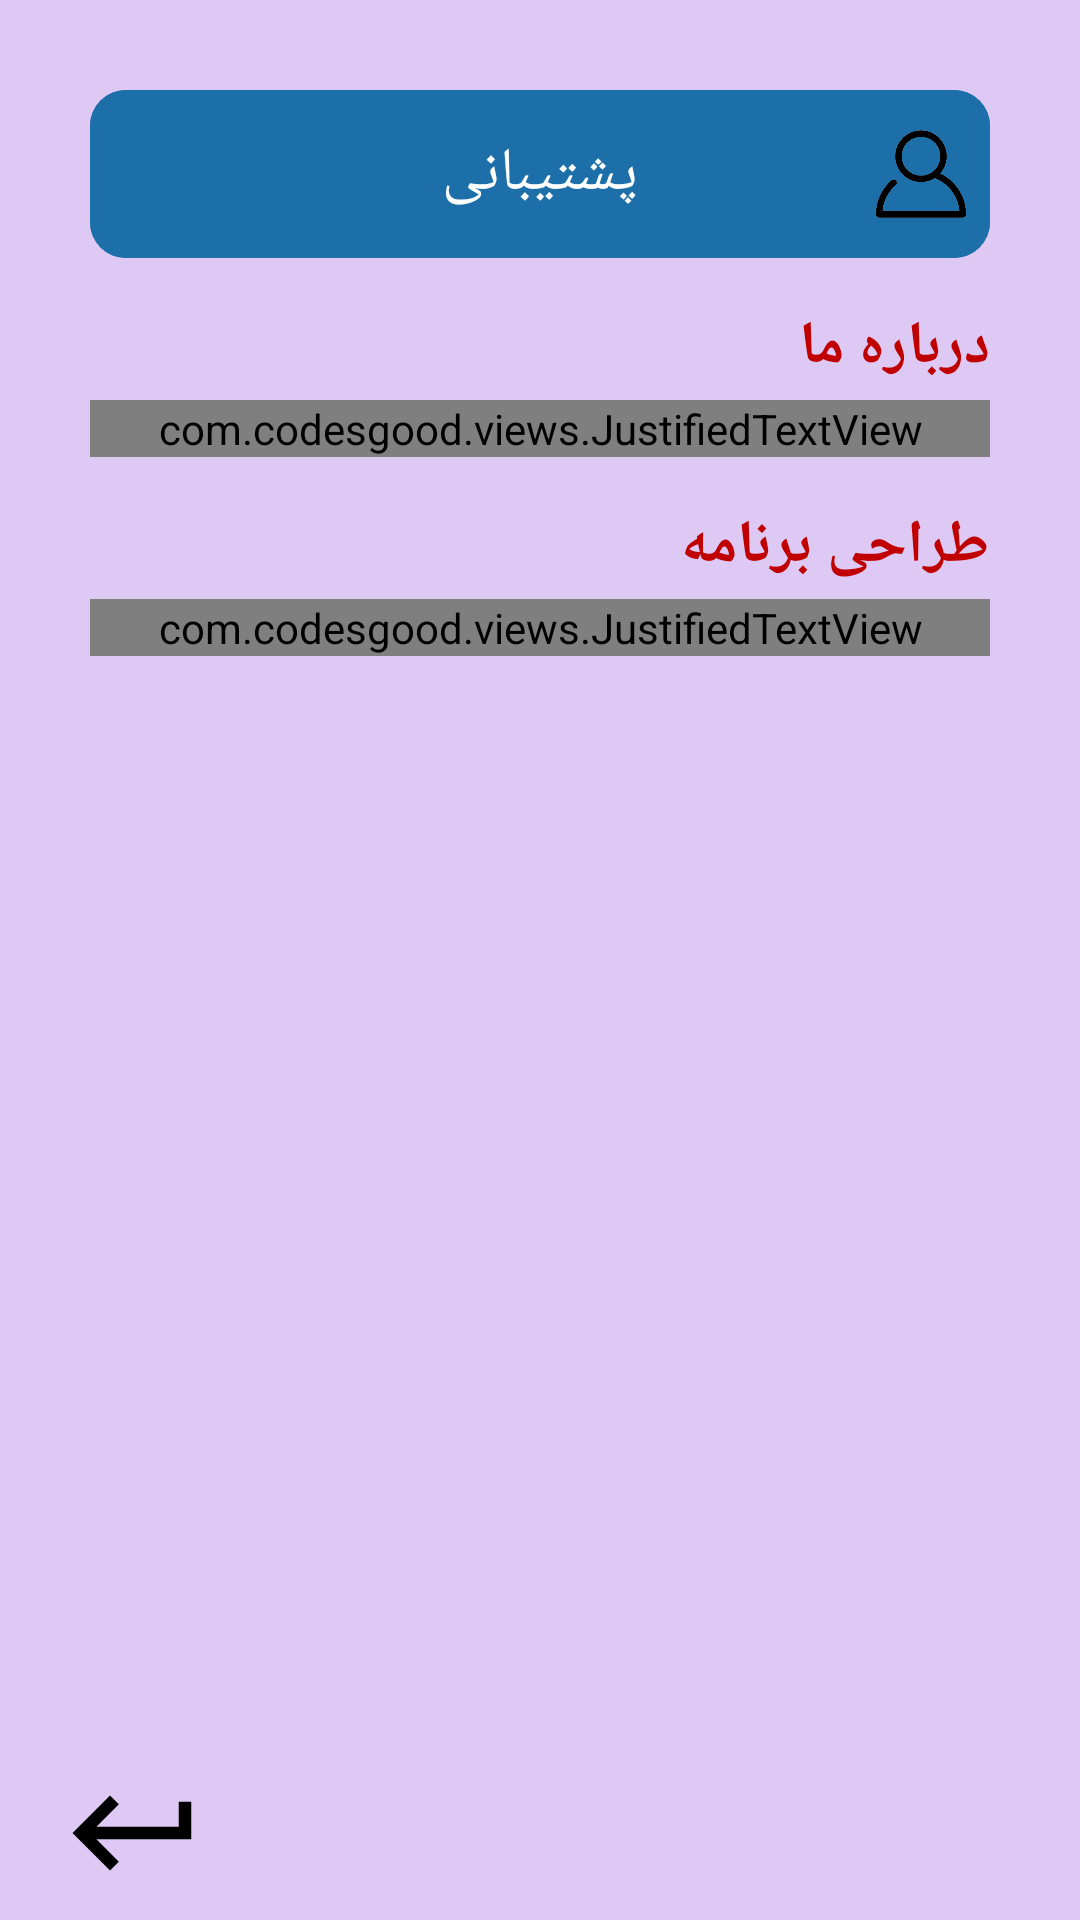

Icons on this 1080 x 1920 Android screen, each with its box as (x1, y1, x2, y2):
keyboard return: (72, 1795, 192, 1871)
